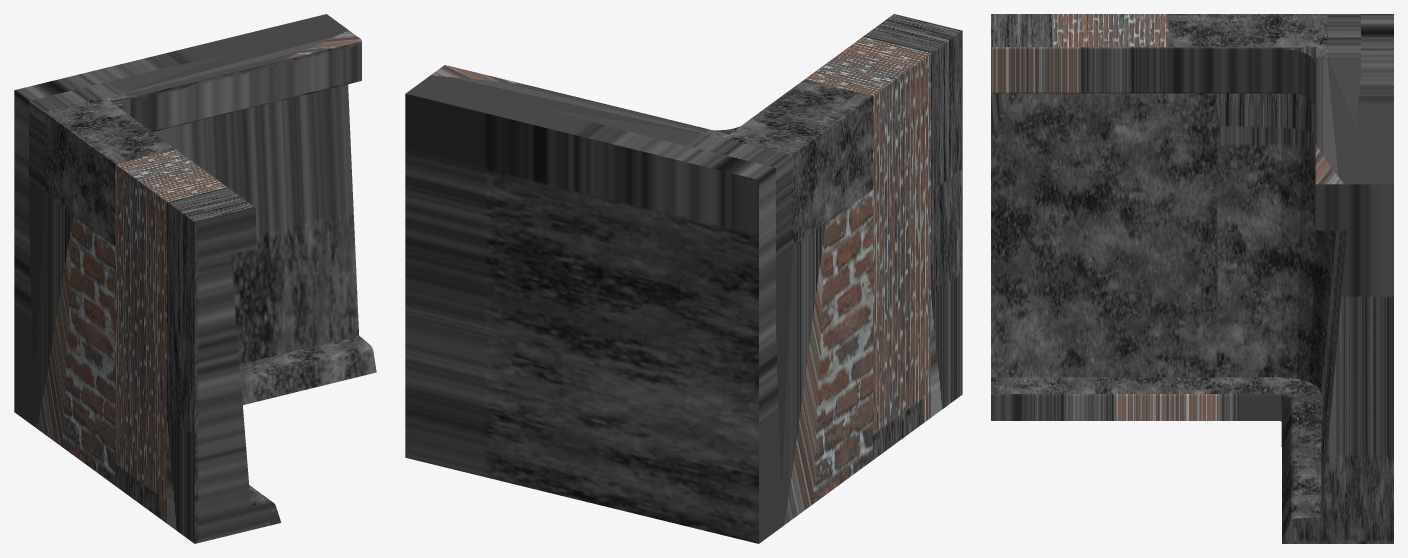
File: SewerInsideCorner.fbx
The picture shows the model from 3 angles, left to right: view 1: azimuth 30°, elevation 25°; view 2: azimuth 150°, elevation 25°; view 3: azimuth 270°, elevation 25°; orthographic projection. The views are drawn at different scales.
Visible parts, largest first — view 1: Inside Corner; view 2: Inside Corner; view 3: Inside Corner.
Part boxes in pixels (bbox=[...]): Inside Corner: bbox=[14, 14, 376, 543]; Inside Corner: bbox=[405, 14, 962, 543]; Inside Corner: bbox=[991, 14, 1393, 543].
Bounding box in the file's own units: 833 × 833 × 820.
